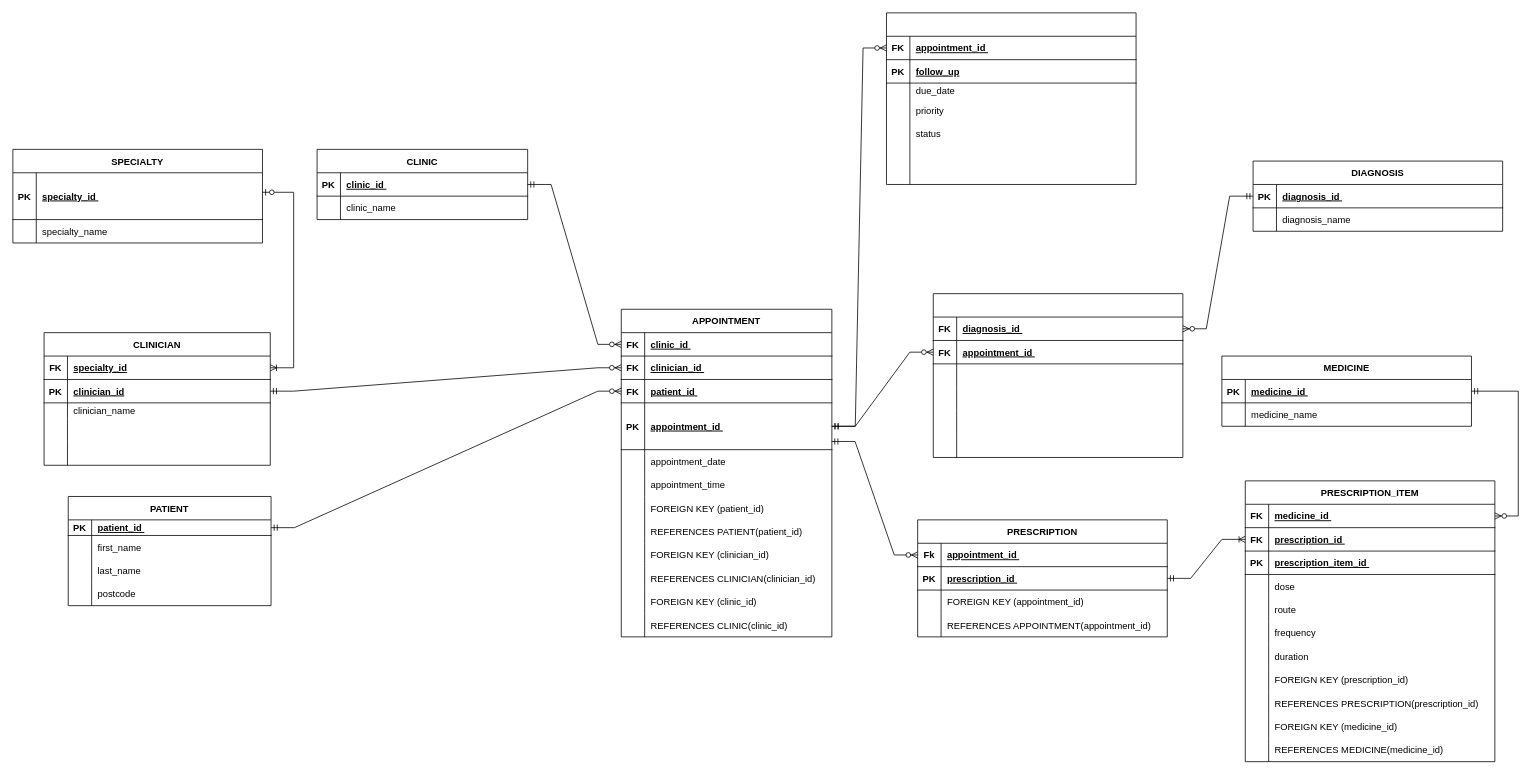
Image size: 1531x775. Some labels were removed from this diagram. The box of each missing label's shape, as (x1, y1, x2, y2) in pixels:
APPOINTMENT_DIAGNOSIS: (932, 293, 1183, 457)
FOLLOW_UP_PLAN: (886, 12, 1136, 184)
